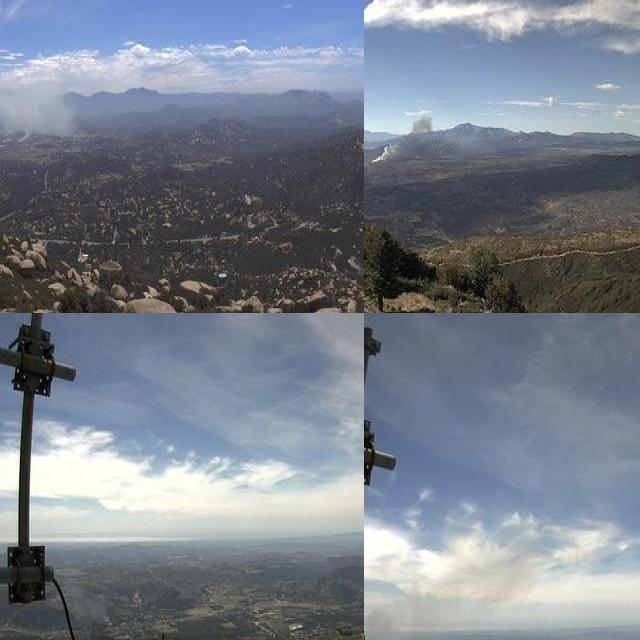smoke: (0, 57, 80, 141), (365, 109, 437, 164), (49, 571, 113, 625), (367, 608, 431, 640)
